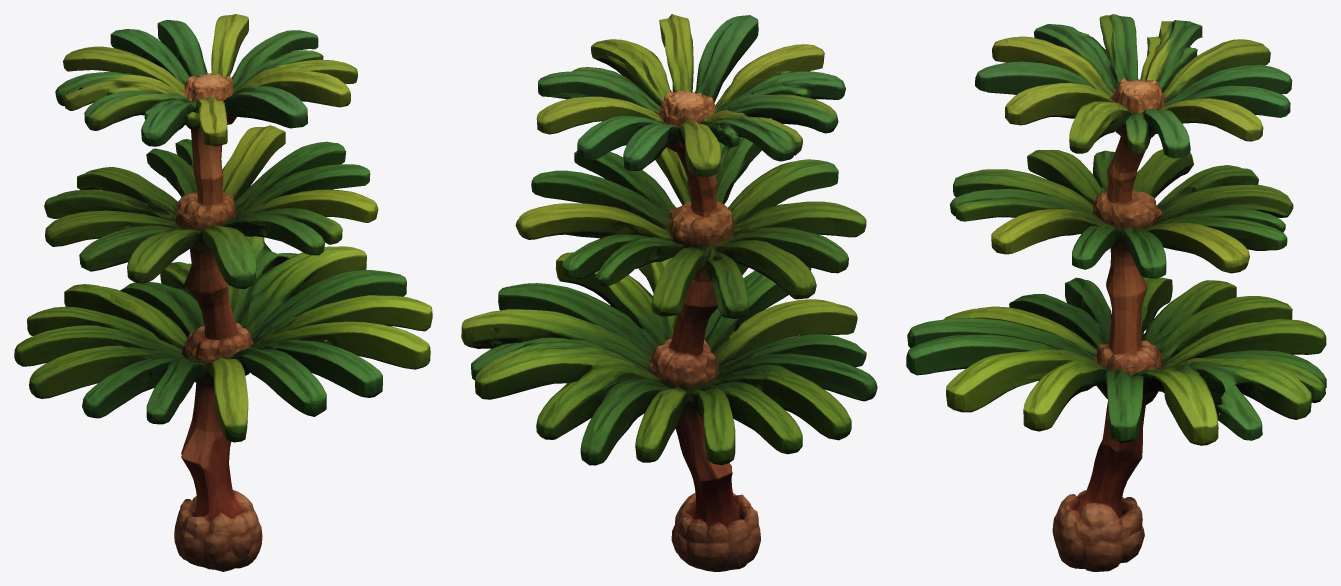
3 renders of one model, left to right at view 1: azimuth 30°, elevation 25°; view 2: azimuth 150°, elevation 25°; view 3: azimuth 270°, elevation 25°, orthographic. The views are drawn at different scales.
Parts seen in each view (by area): view 1: world; view 2: world; view 3: world.
Part boxes in pixels (left/top/right/bottom): world: left=14, top=14, right=432, bottom=571; world: left=461, top=14, right=877, bottom=571; world: left=906, top=14, right=1326, bottom=571.
Bounding box in the file's own units: 0.2119 × 0.28 × 0.2088.
Materials: 1 (1 with a texture image).
